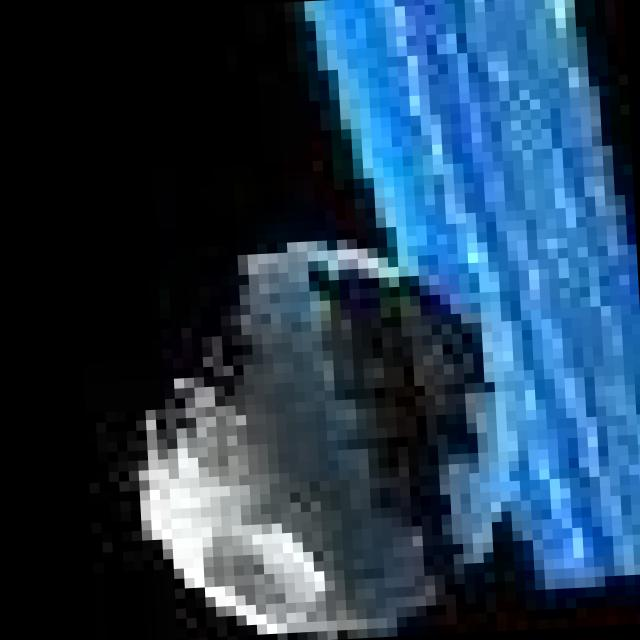Death Star: (111, 222, 493, 640)
